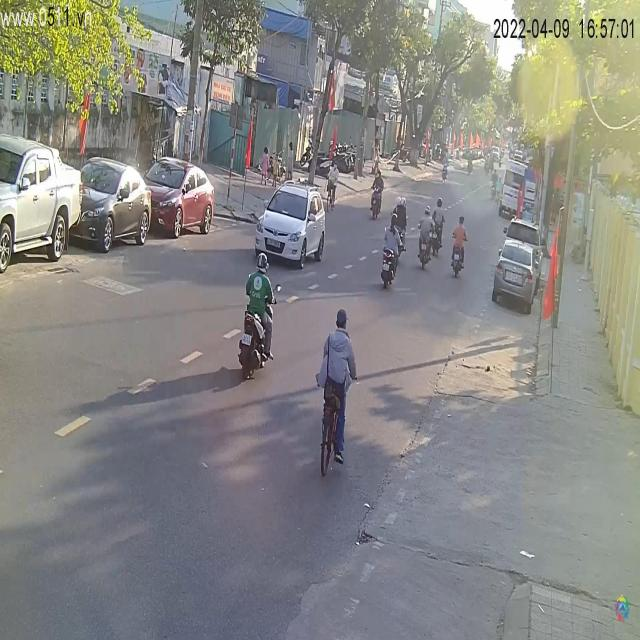car: (1, 135, 83, 276), (74, 158, 156, 253), (142, 156, 216, 240), (255, 184, 326, 267), (492, 233, 540, 317)
motorcycle: (238, 266, 277, 384), (416, 214, 434, 268), (367, 177, 384, 225), (381, 248, 397, 290), (450, 245, 464, 278)
